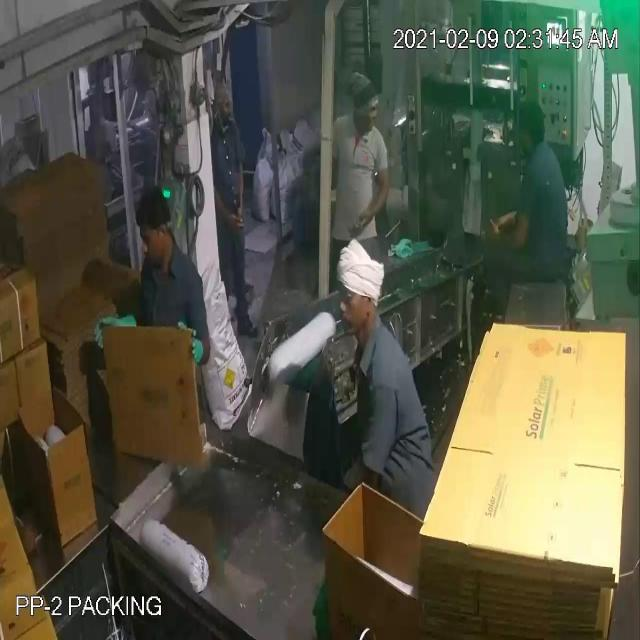Gloves: (33, 48, 506, 344)
